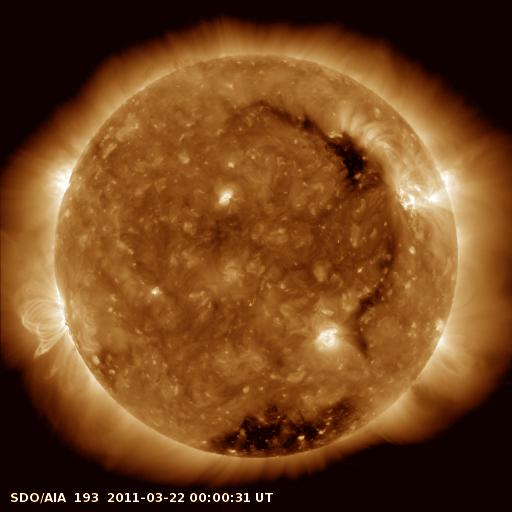coronal_hole: (206, 394, 359, 459), (297, 113, 374, 186)
